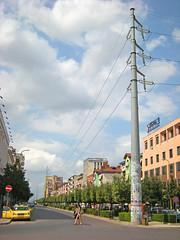power_tower: (117, 5, 164, 229)
